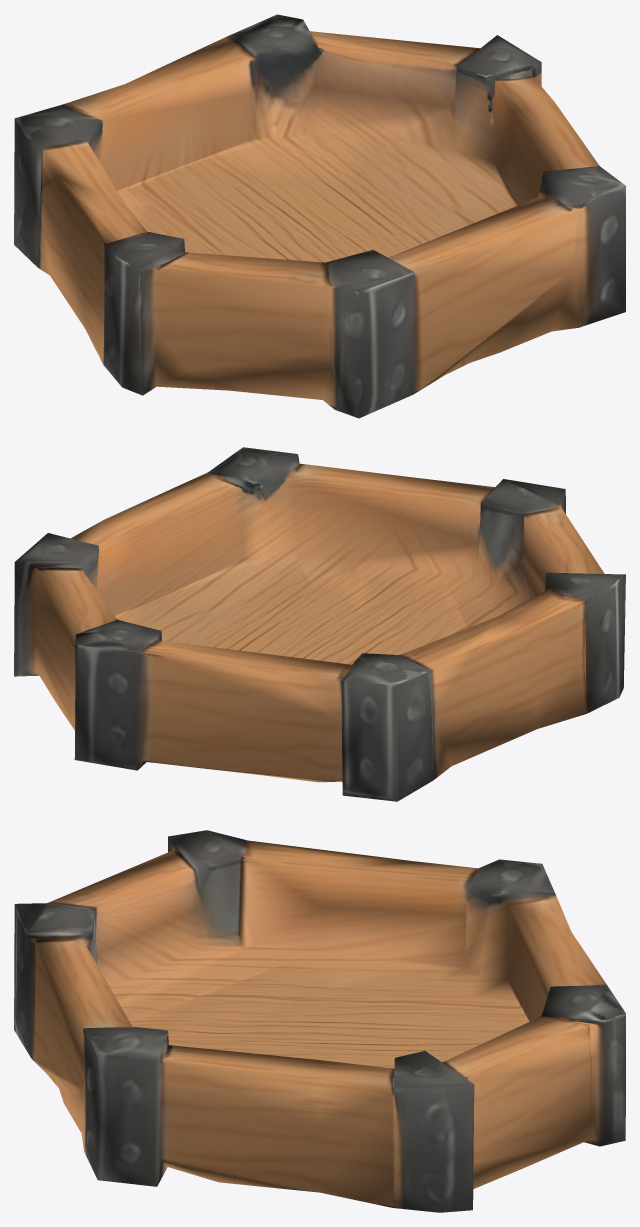
The model's file is wooden-goods-placer.fbx.
3 views of the same model, one above another, from view 1: azimuth 30°, elevation 25°; view 2: azimuth 150°, elevation 25°; view 3: azimuth 270°, elevation 25° (orthographic). The views are drawn at different scales.
Visible parts, largest first — view 1: tripo_node_7ec9051f; view 2: tripo_node_7ec9051f; view 3: tripo_node_7ec9051f.
Part boxes in pixels (x1,y1,x2,y2): tripo_node_7ec9051f: (14,14,625,418); tripo_node_7ec9051f: (14,447,625,801); tripo_node_7ec9051f: (14,830,625,1212).
Size of the model in its own units: 0.9886 by 0.2387 by 0.9994.
1 material, 1 textured.
